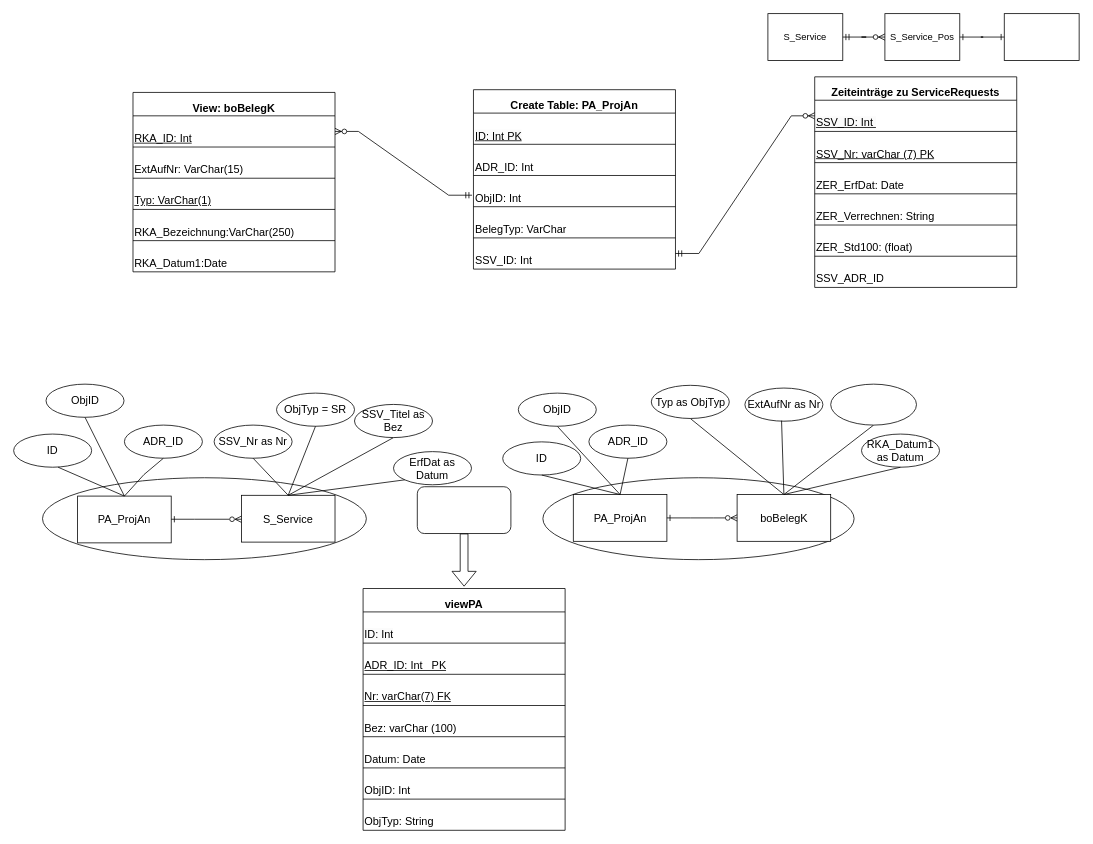
Image size: 1093x844. Some labels were removed from this diagram. The centre of each missing label's shape, as x and y in pixels:
RKA_Bezeichnung as Bez: (x=873, y=404)
Union All: (x=464, y=510)
Z_Erfassung: (x=1041, y=36)
